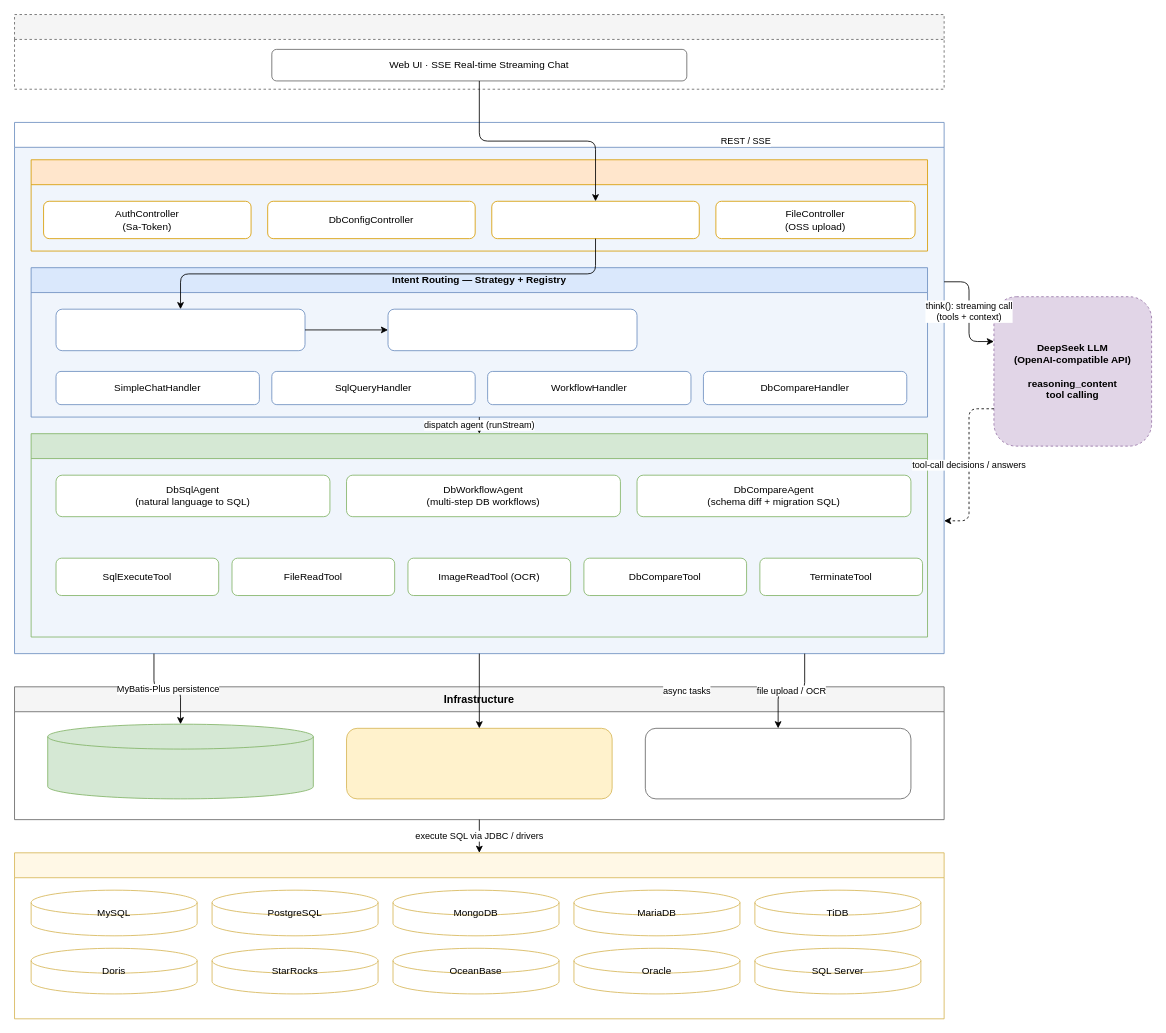
Image size: 1166x1033. Some labels were removed from this diagram. The box of each missing label's shape, as (x1, y1, x2, y2) in pixels:
Access Layer — Controllers: (30, 159, 928, 251)
AI Agent Framework — BaseAgent → ReActAgent → ToolCallAgent (Template Method): (30, 433, 928, 637)
Aliyun OSS + OCR File storage / image recognition: (644, 727, 911, 799)
ChatController POST /chat · SSE: (491, 200, 699, 239)
Frontend (Not Open Source): (14, 14, 944, 89)
IntentClassifier (LLM Router, structured output): (55, 308, 305, 351)
IntentHandlerRegistry (auto-discovered Handler beans): (387, 308, 637, 351)
PostgreSQL 16 System DB (schema: app): (47, 723, 313, 799)
RabbitMQ Async: connection verify / doc generation: (346, 727, 612, 799)
Spring Boot 3.4 Backend: (14, 122, 944, 654)
User Target Databases (Dynamic Connection at Runtime): (14, 852, 944, 1019)
